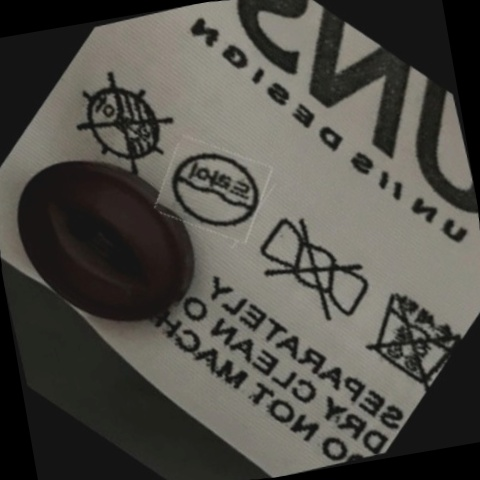DN_dry: (61, 59, 188, 188)
DN_wring: (243, 200, 386, 343)
dry_clean: (156, 131, 272, 250)
hand_wash: (348, 270, 470, 399)
